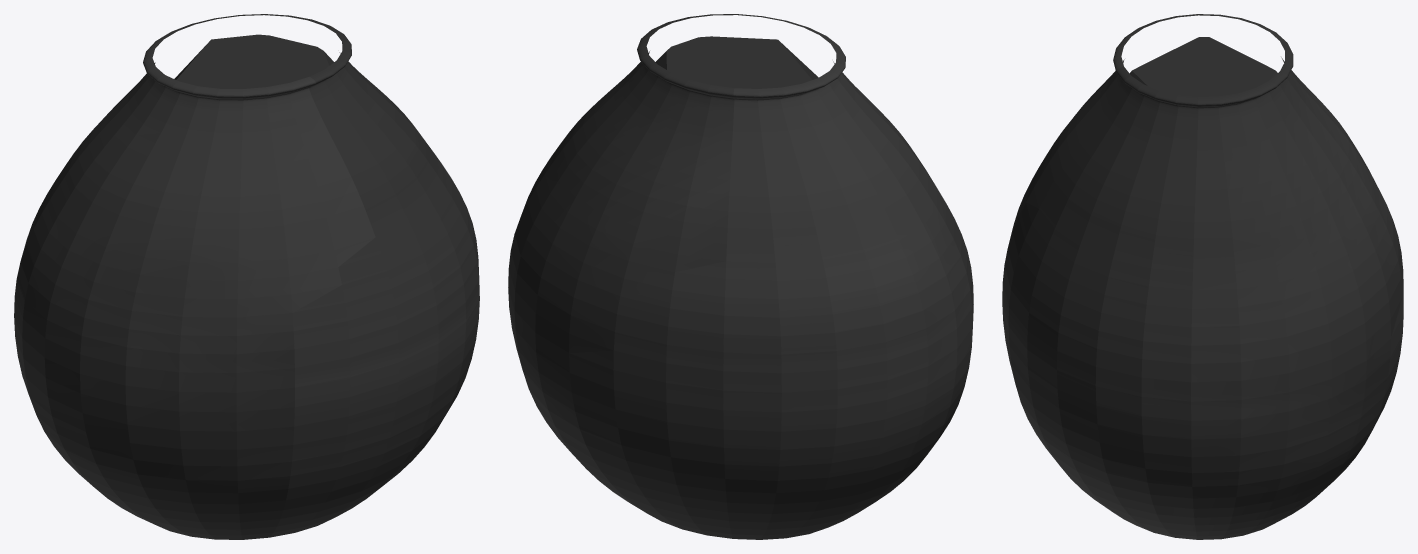
The model's file is flower_0.glb.
The picture shows the model from 3 angles, left to right: view 1: azimuth 30°, elevation 25°; view 2: azimuth 150°, elevation 25°; view 3: azimuth 270°, elevation 25°; orthographic projection.
Visible parts, largest first — view 1: flower_0; view 2: flower_0; view 3: flower_0.
Part boxes in pixels (box(x1,y1,x2,y2)): flower_0: box(14, 14, 479, 539); flower_0: box(508, 14, 973, 539); flower_0: box(1002, 14, 1403, 539).
Bounding box in the file's own units: 0.3521 × 0.3583 × 0.2981.
1 material, 1 textured.
